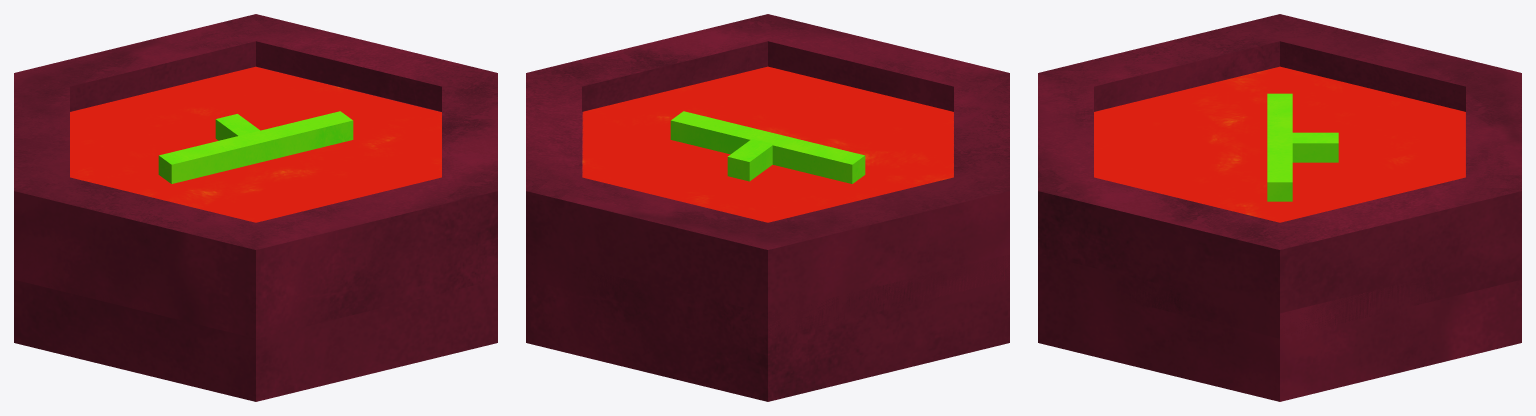
Rendered from Shoot.FBX.
3 renders of one model, left to right at view 1: azimuth 30°, elevation 25°; view 2: azimuth 150°, elevation 25°; view 3: azimuth 270°, elevation 25°, orthographic.
Visible parts, largest first — view 1: Cylinder024; view 2: Cylinder024; view 3: Cylinder024.
Boxes of the visible parts, x1,y1,x2,y2 form: Cylinder024: (14,14,497,401); Cylinder024: (526,14,1009,401); Cylinder024: (1038,14,1521,401).
Size of the model in its own units: 20 by 17.32 by 6.
